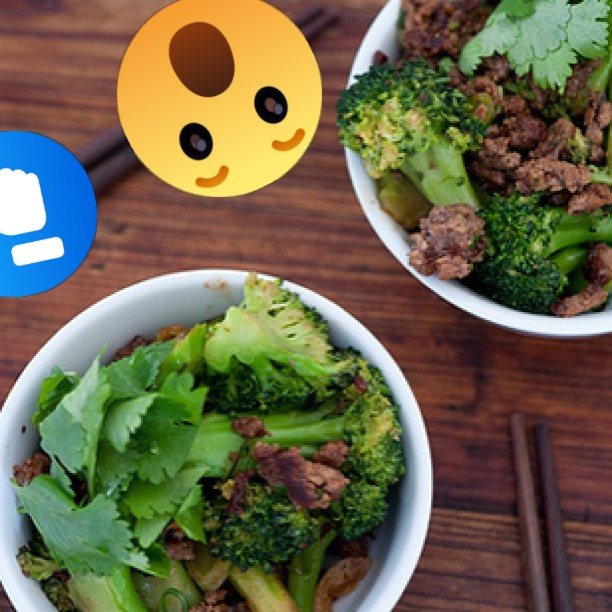like: (0, 131, 97, 297)
wow: (117, 0, 322, 197)
